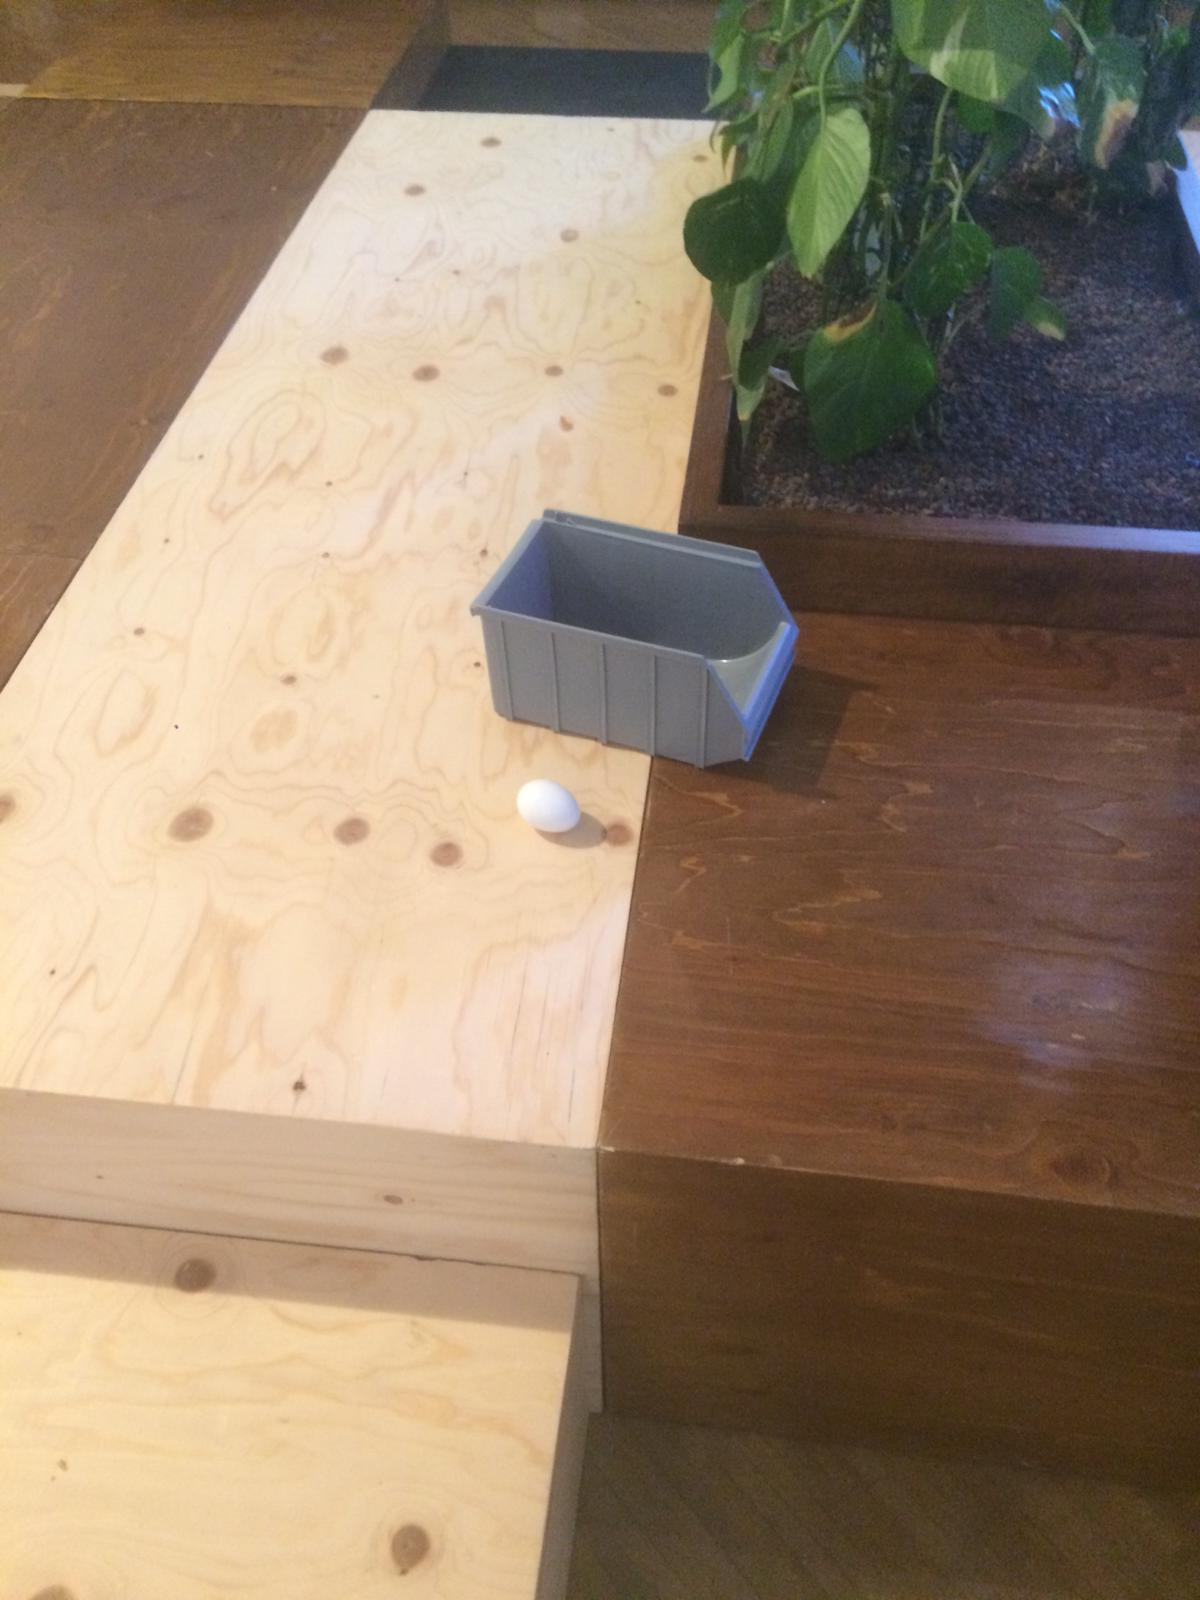egg: (508, 779, 589, 837)
tray_left: (471, 593, 742, 772)
